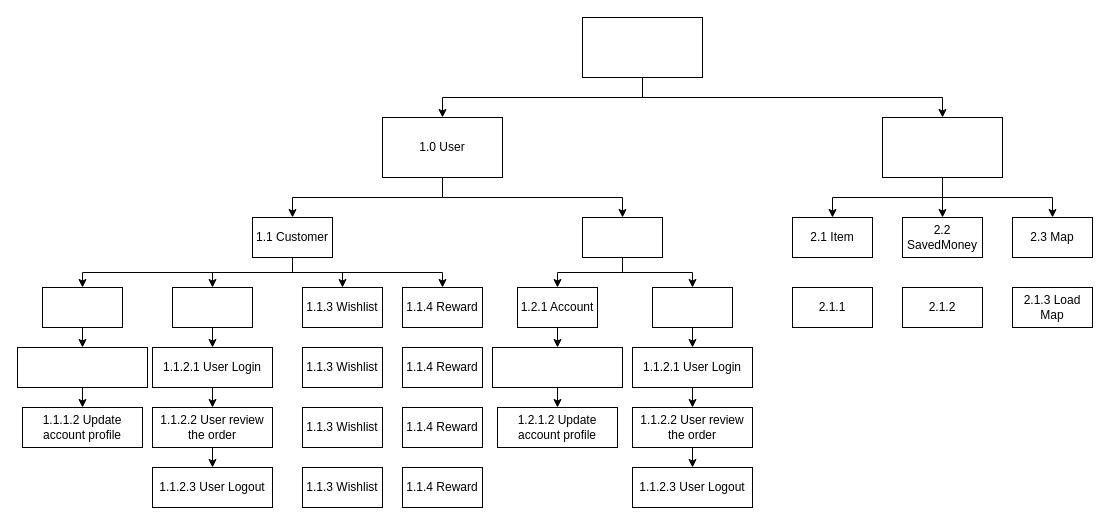
This 1110x525 diagram has some shape labels left out. The shapes that lost their labels are listed below. From the top down, each one's centre as x and y in pixels, then its label:
the point at 642,47: Deli-cious
the point at 942,147: 2.0 Supermarket
the point at 622,237: 1.2 Admin
the point at 82,307: 1.1.1 Account
the point at 212,307: 1.1.2 Login
the point at 692,307: 1.2.2 Login
the point at 82,367: 1.1.1.1 Create account
the point at 557,367: 1.2.1.1 Create account
